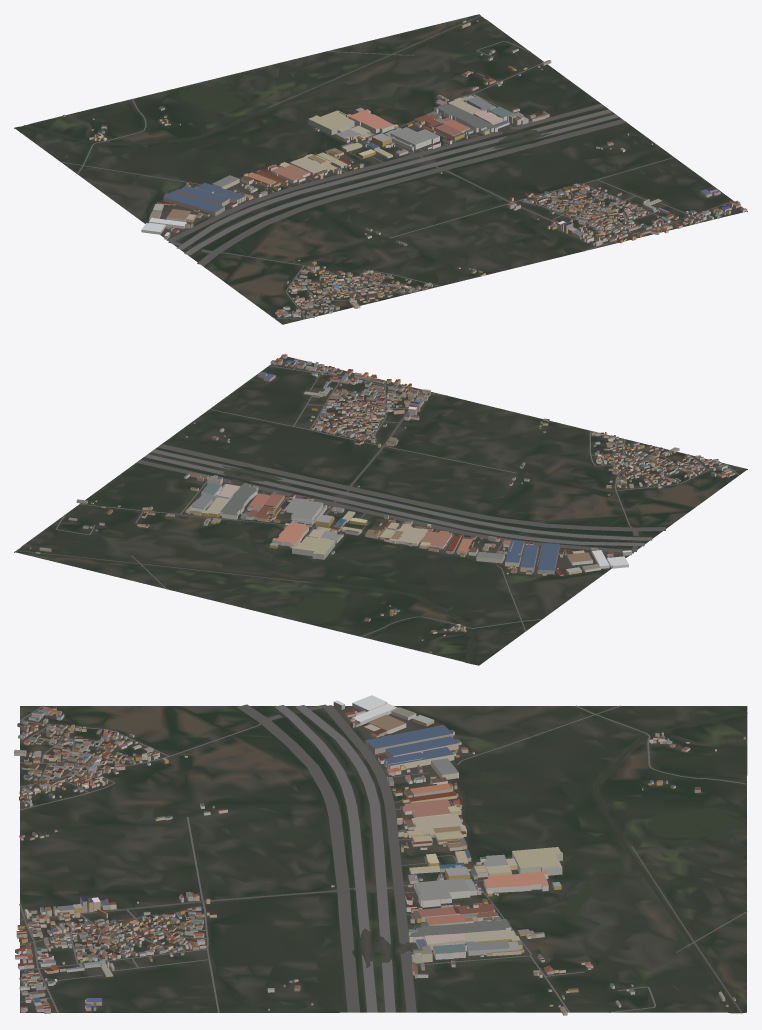
3 renders of one model, top to bottom at view 1: azimuth 30°, elevation 25°; view 2: azimuth 150°, elevation 25°; view 3: azimuth 270°, elevation 25°, orthographic. The views are drawn at different scales.
Parts seen in each view (by area): view 1: ground, buildings, roads, water; view 2: ground, buildings, roads, water; view 3: ground, buildings, roads, water.
Part boxes in pixels (left/top/right/bottom): ground: left=14, top=14, right=747, bottom=324; buildings: left=62, top=20, right=747, bottom=317; roads: left=60, top=15, right=733, bottom=319; water: left=23, top=17, right=483, bottom=174; ground: left=14, top=357, right=747, bottom=665; buildings: left=29, top=354, right=735, bottom=653; roads: left=16, top=359, right=739, bottom=636; water: left=17, top=521, right=476, bottom=663; ground: left=20, top=706, right=747, bottom=1013; buildings: left=14, top=695, right=745, bottom=1015; roads: left=19, top=704, right=747, bottom=1012; water: left=475, top=712, right=747, bottom=1012.
Size of the model in its own units: 1447 by 27.38 by 1415.
